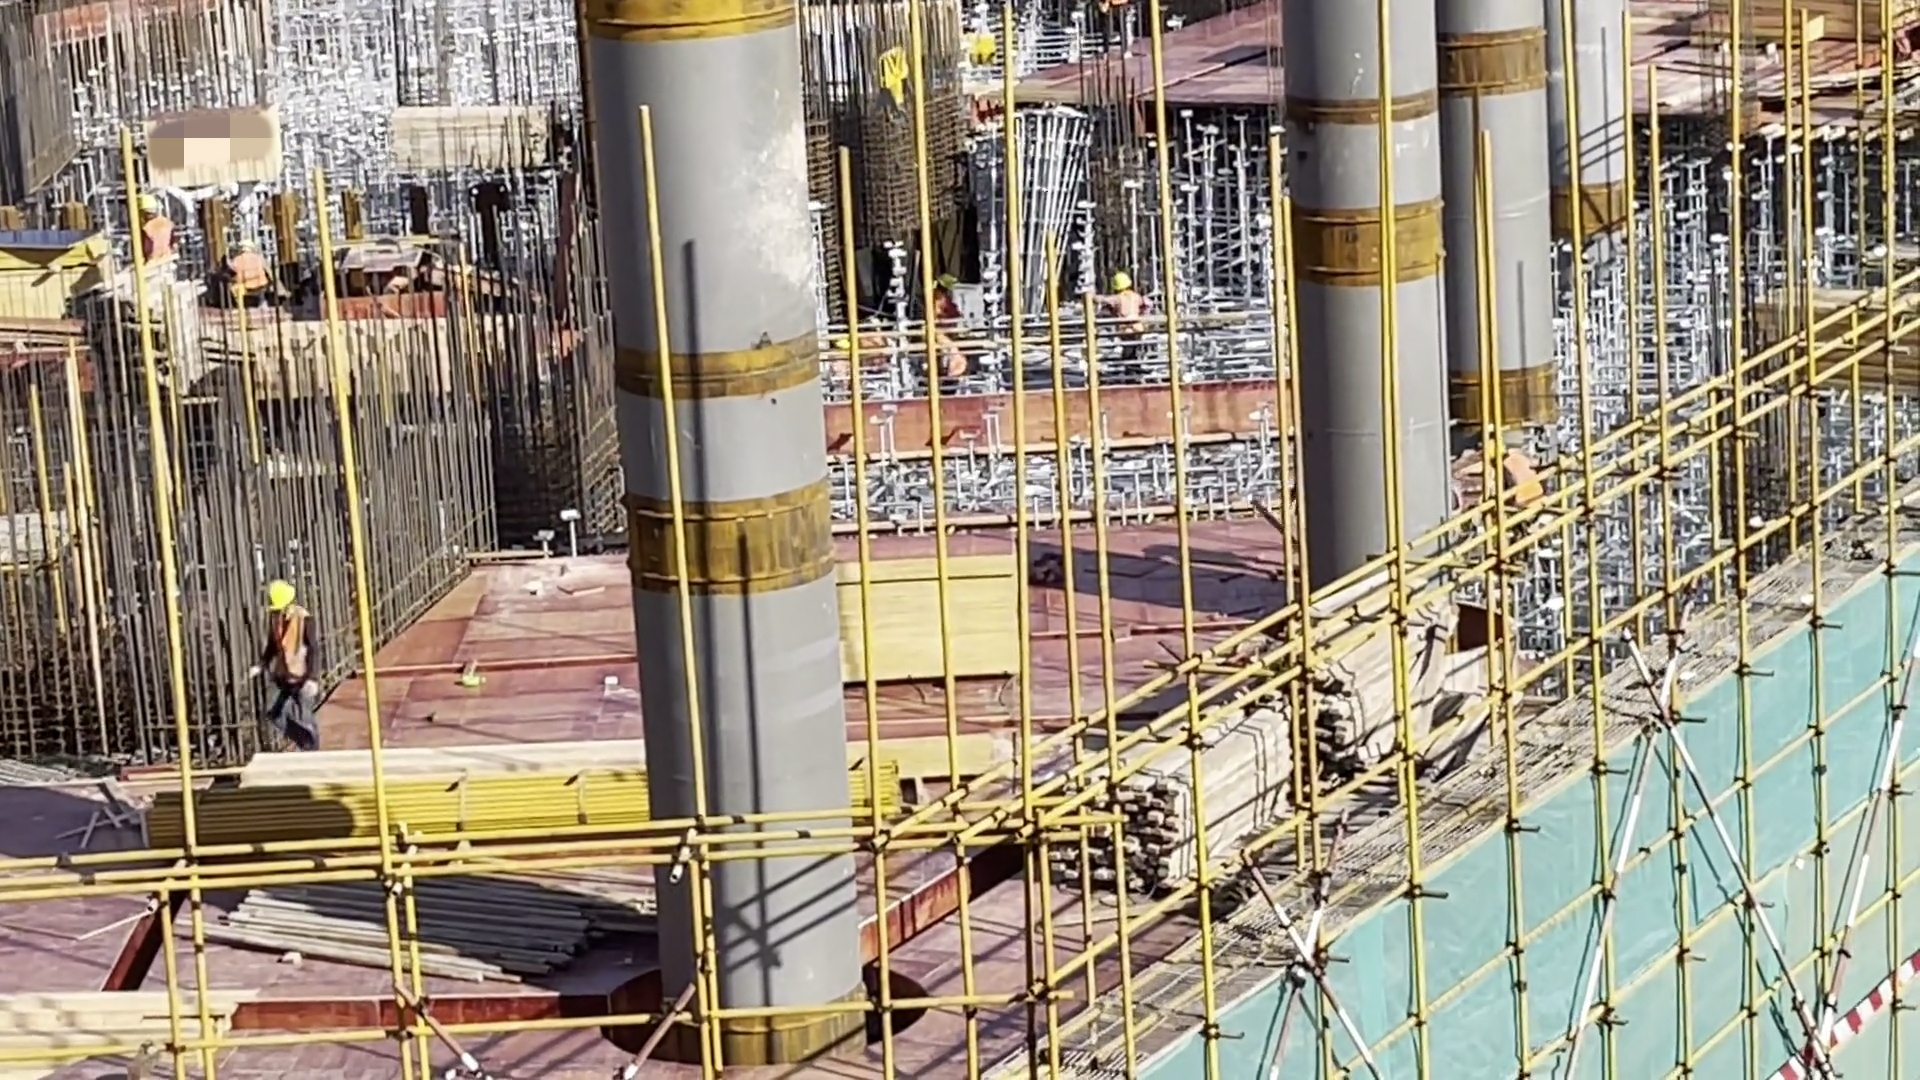helmet: (254, 574, 298, 615), (138, 196, 169, 226), (1098, 266, 1128, 296), (936, 267, 960, 301)
person: (247, 578, 324, 756), (128, 199, 183, 269), (1101, 274, 1153, 349), (914, 322, 974, 385), (220, 241, 277, 302)
vest: (264, 613, 312, 694)
